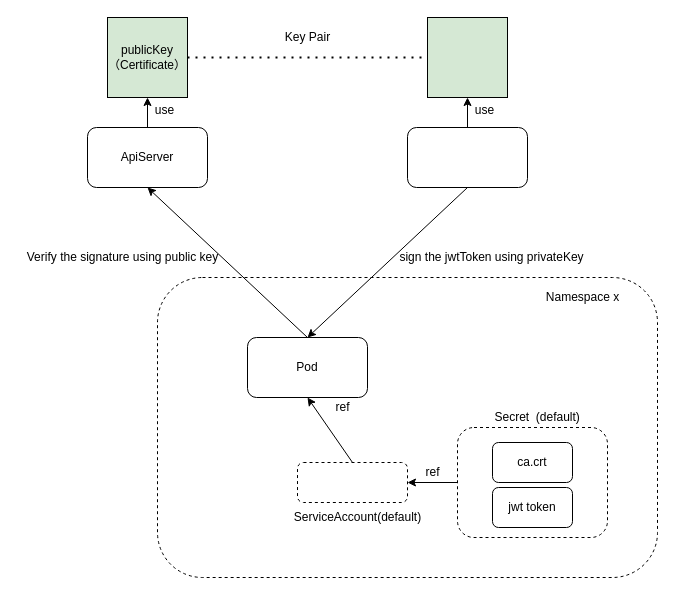
This 675x595 diagram has some shape labels left out. The shapes that lost their labels are listed below. From the top down, each one's centre as x and y in pixels, then its label:
At point (467, 57): "privateKey".
At point (467, 157): "ControllerManager".
